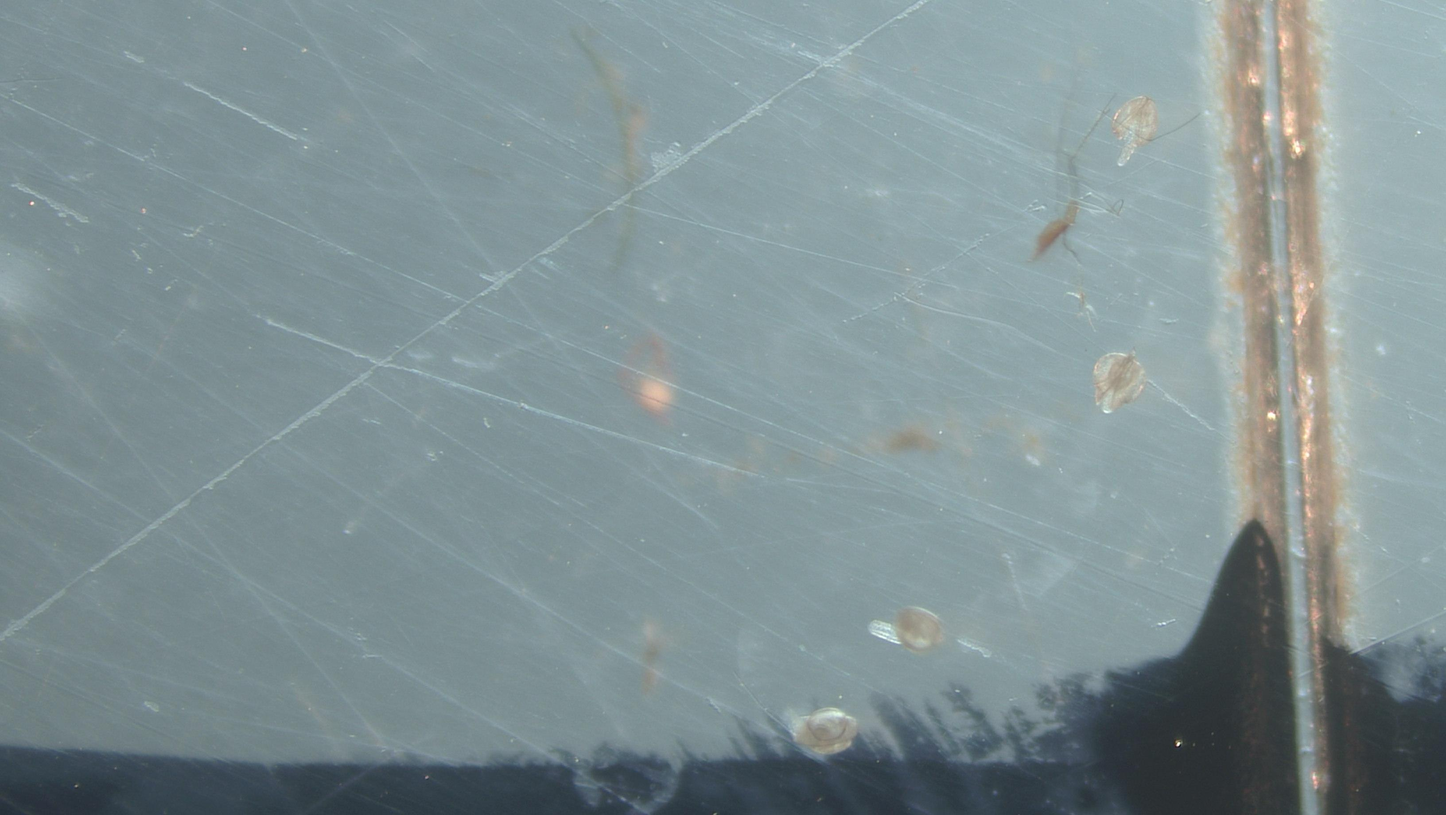live: (1112, 96, 1158, 167), (1093, 353, 1146, 413), (895, 607, 943, 652)
